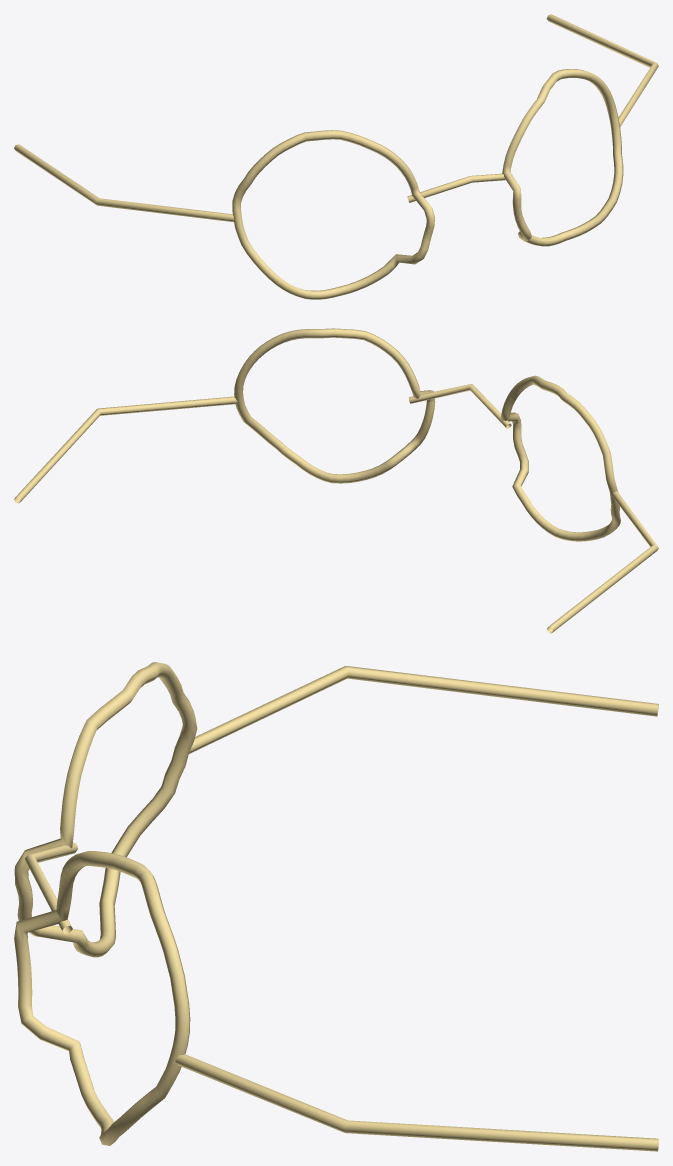
Rendered from glasses_round_pig_tailored.glb.
3 views of the same model, one above another, from view 1: azimuth 30°, elevation 25°; view 2: azimuth 150°, elevation 25°; view 3: azimuth 270°, elevation 25° (orthographic). The views are drawn at different scales.
Parts seen in each view (by area): view 1: Montura.014, Montura.015, Patilla curva.014, Patilla curva.015, Puente nasal.007; view 2: Montura.015, Montura.014, Patilla curva.015, Patilla curva.014, Puente nasal.007; view 3: Montura.015, Montura.014, Patilla curva.015, Patilla curva.014, Puente nasal.007.
Boxes of the visible parts, x1=… form: Montura.014: x1=232, y1=130, x2=434, y2=299; Montura.015: x1=502, y1=69, x2=623, y2=246; Patilla curva.014: x1=14, y1=144, x2=234, y2=222; Patilla curva.015: x1=546, y1=14, x2=658, y2=126; Puente nasal.007: x1=407, y1=173, x2=512, y2=202; Montura.015: x1=234, y1=328, x2=435, y2=483; Montura.014: x1=500, y1=375, x2=620, y2=541; Patilla curva.015: x1=14, y1=396, x2=237, y2=503; Patilla curva.014: x1=547, y1=491, x2=658, y2=633; Puente nasal.007: x1=408, y1=384, x2=511, y2=428; Montura.015: x1=14, y1=851, x2=190, y2=1145; Montura.014: x1=14, y1=662, x2=197, y2=957; Patilla curva.015: x1=175, y1=1054, x2=658, y2=1151; Patilla curva.014: x1=189, y1=666, x2=658, y2=753; Puente nasal.007: x1=25, y1=843, x2=78, y2=933.
Bounding box in the file's own units: 0.8373 × 0.2268 × 0.4965.
